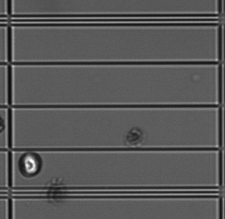Dead Cell: (125, 126, 145, 144), (1, 114, 5, 135)
Living Cell: (17, 151, 43, 179)
